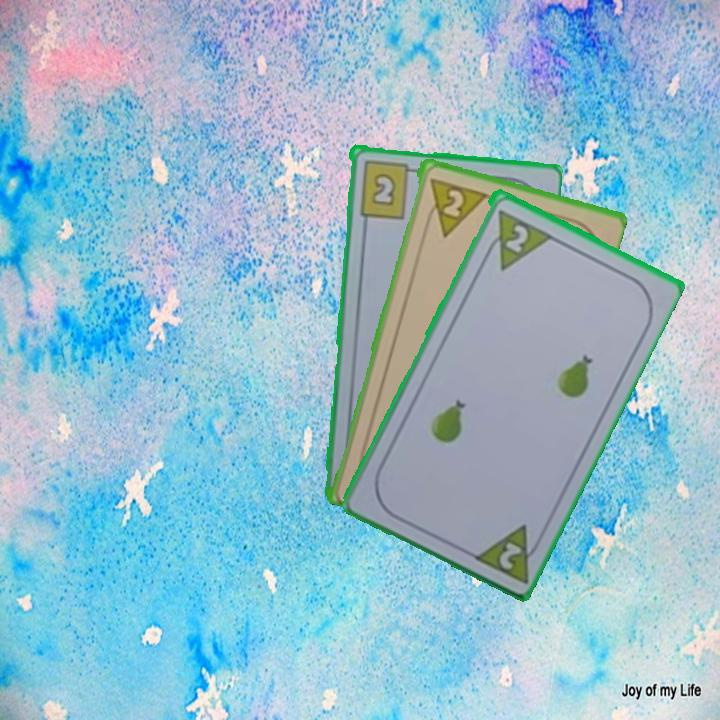2b: (355, 156, 421, 220)
2p: (422, 173, 488, 239), (501, 220, 531, 256), (495, 537, 525, 572)
